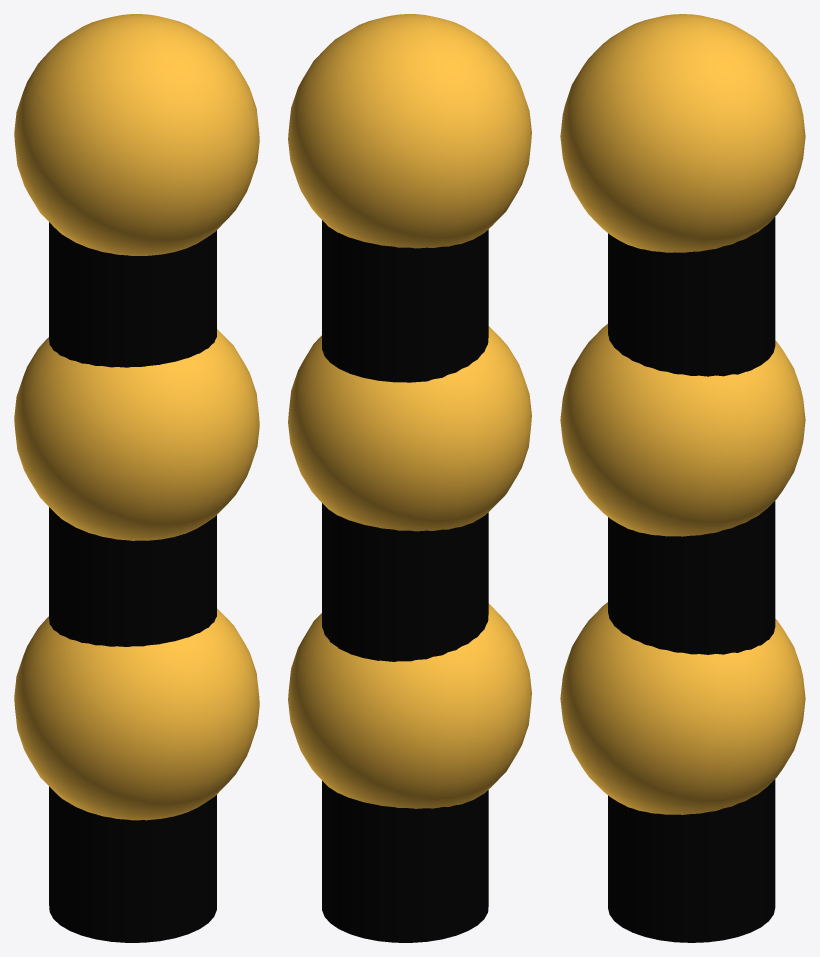
The model's file is Ring_1.fbx.
The picture shows the model from 3 angles, left to right: view 1: azimuth 30°, elevation 25°; view 2: azimuth 150°, elevation 25°; view 3: azimuth 270°, elevation 25°; orthographic projection.
Visible parts, largest first — view 1: Ring; view 2: Ring; view 3: Ring.
Boxes of the visible parts, x1=… form: Ring: x1=14, y1=14, x2=259, y2=942; Ring: x1=288, y1=14, x2=531, y2=942; Ring: x1=560, y1=14, x2=805, y2=942.
Bounding box in the file's own units: 155 × 614 × 155.
